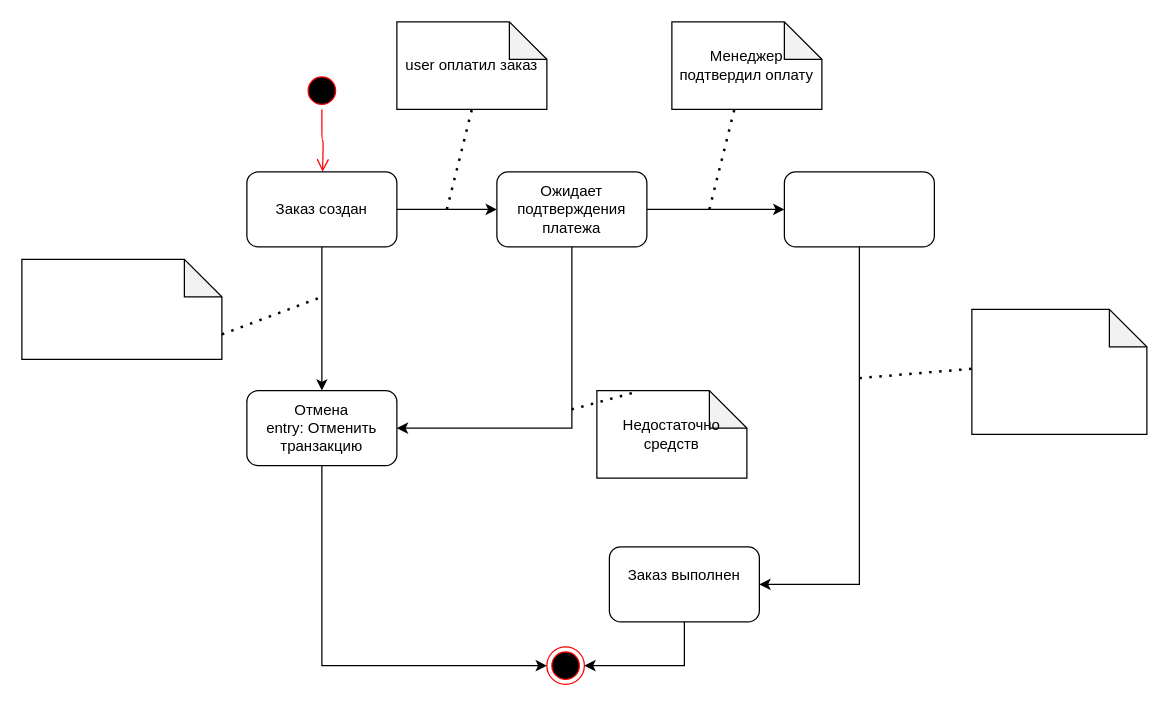
This 1169x706 diagram has some shape labels left out. Here are the shapes that lost their labels. From the top down, the box of each, then its label:
(783, 171, 934, 247): В работе entry:уведомление о том, что заказ в обработке
(21, 258, 222, 359): user отменил заказ Условие: user может отменять только свой заказ
(971, 308, 1147, 434): user подтвердил получение
